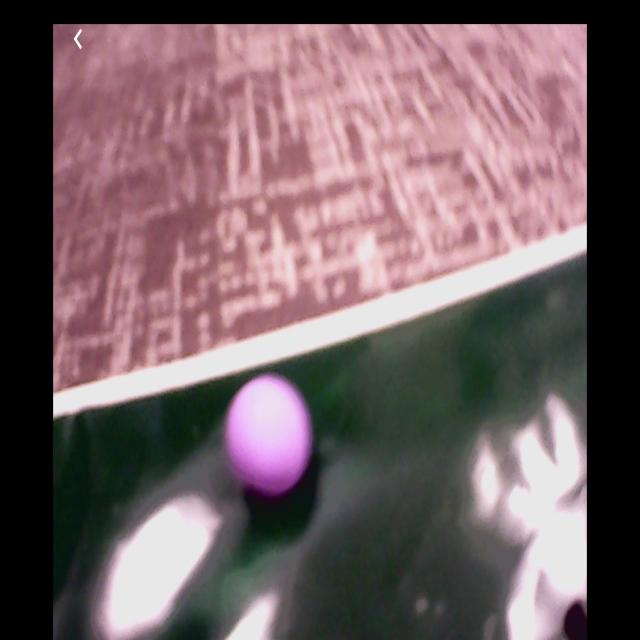ball: (227, 375, 313, 495)
